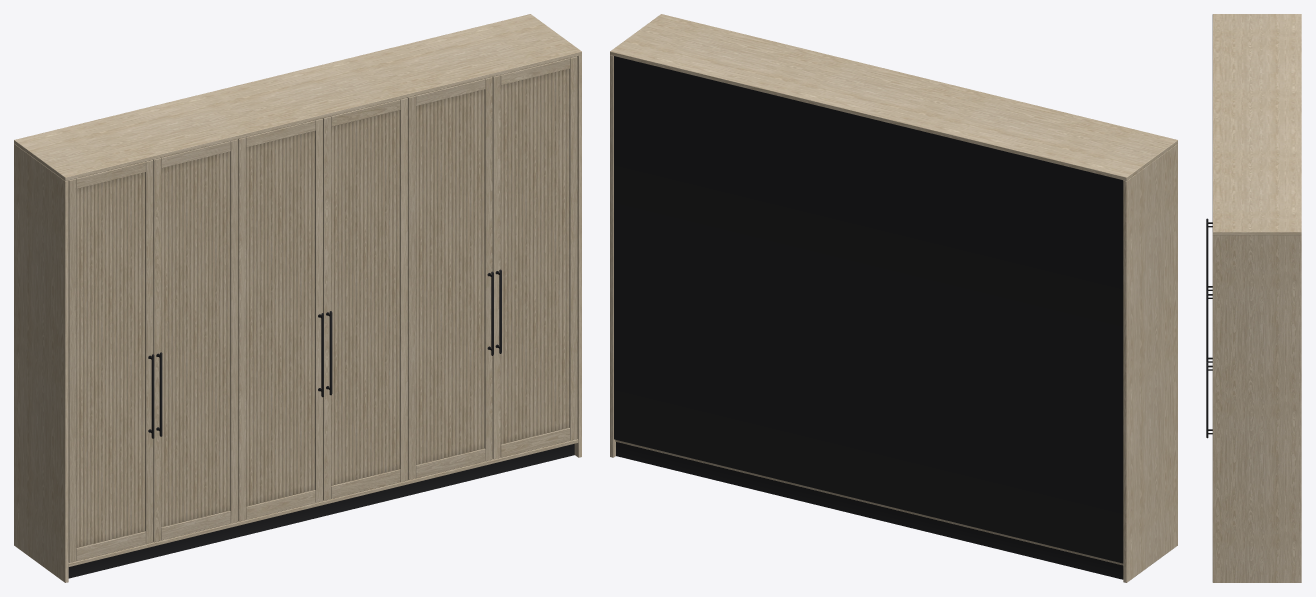
The model's file is guest_wardrobe.gltf.
The picture shows the model from 3 angles, left to right: view 1: azimuth 30°, elevation 25°; view 2: azimuth 150°, elevation 25°; view 3: azimuth 270°, elevation 25°; orthographic projection. The views are drawn at different scales.
Visible parts, largest first — view 1: GuestWardrobe_DoorReeds, GuestWardrobe_Door2_Leaf, GuestWardrobe_Door3_Leaf, GuestWardrobe_Top, GuestWardrobe_DoorStiles, GuestWardrobe_SideL, GuestWardrobe_DoorRails, GuestWardrobe_Plinth, GuestWardrobe_BottomRail, GuestWardrobe_SideR, GuestWardrobe_DetailPiping_Aluminium_Black; view 2: GuestWardrobe_Interior, GuestWardrobe_Top, GuestWardrobe_SideL, GuestWardrobe_Plinth, GuestWardrobe_SideR, GuestWardrobe_BottomRail; view 3: GuestWardrobe_SideR, GuestWardrobe_Top, GuestWardrobe_DetailPiping_Aluminium_Black, GuestWardrobe_Door3_Pull.
Boxes of the visible parts, left/top/right/bottom form: GuestWardrobe_DoorReeds: left=76, top=68, right=569, bottom=547; GuestWardrobe_Door2_Leaf: left=238, top=118, right=322, bottom=521; GuestWardrobe_Door3_Leaf: left=322, top=98, right=407, bottom=500; GuestWardrobe_Top: left=14, top=14, right=581, bottom=180; GuestWardrobe_DoorStiles: left=68, top=56, right=577, bottom=562; GuestWardrobe_SideL: left=14, top=144, right=68, bottom=582; GuestWardrobe_DoorRails: left=76, top=58, right=569, bottom=560; GuestWardrobe_Plinth: left=68, top=444, right=574, bottom=578; GuestWardrobe_BottomRail: left=68, top=439, right=578, bottom=566; GuestWardrobe_SideR: left=574, top=55, right=581, bottom=457; GuestWardrobe_DetailPiping_Aluminium_Black: left=148, top=269, right=501, bottom=438; GuestWardrobe_Interior: left=614, top=56, right=1123, bottom=563; GuestWardrobe_Top: left=610, top=14, right=1177, bottom=180; GuestWardrobe_SideL: left=1123, top=144, right=1177, bottom=582; GuestWardrobe_Plinth: left=616, top=442, right=1123, bottom=579; GuestWardrobe_SideR: left=610, top=55, right=615, bottom=457; GuestWardrobe_BottomRail: left=615, top=439, right=1123, bottom=565; GuestWardrobe_SideR: left=1212, top=235, right=1301, bottom=582; GuestWardrobe_Top: left=1212, top=14, right=1301, bottom=235; GuestWardrobe_DetailPiping_Aluminium_Black: left=1206, top=218, right=1212, bottom=438; GuestWardrobe_Door3_Pull: left=1206, top=293, right=1212, bottom=362.
Size of the model in its own units: 3.6 by 2.7 by 0.6658.
5 materials, 1 textured.
